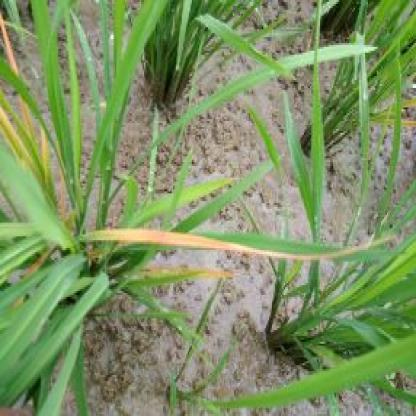Tungro: (93, 221, 340, 266)
